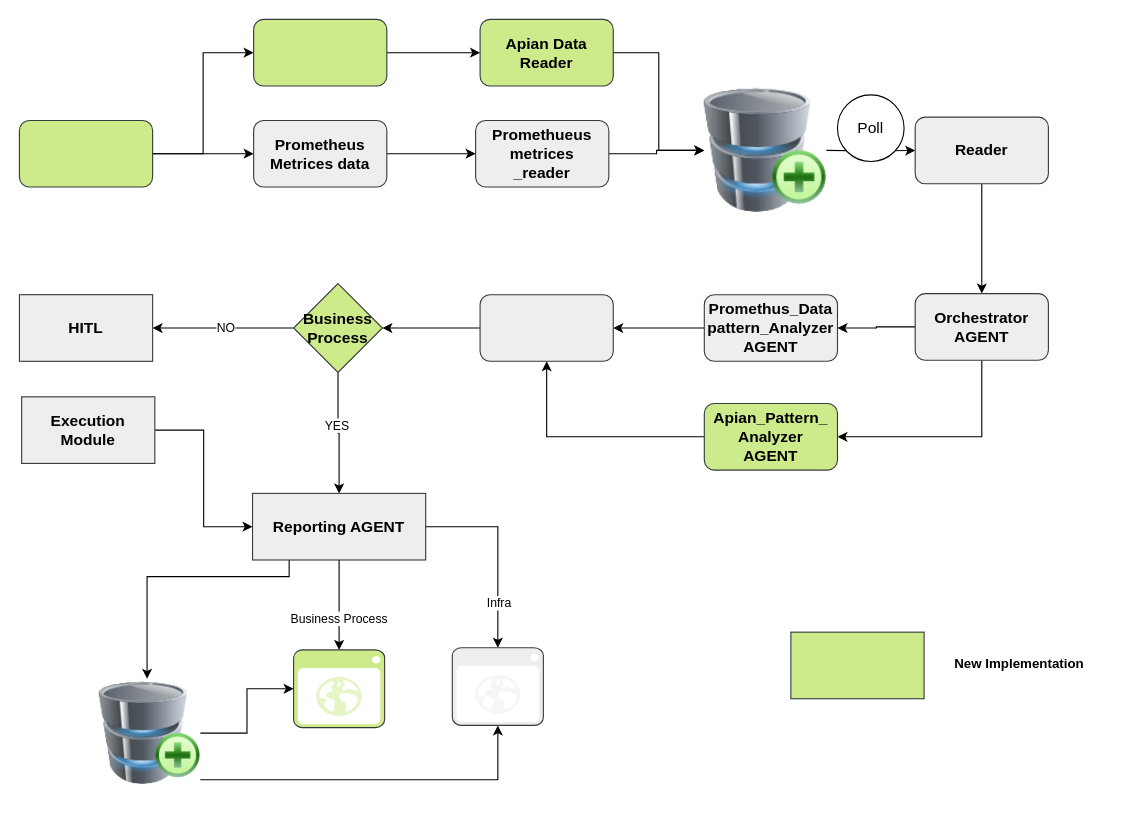
The diagram is 1124 pixels wide and 834 high, and some of its shapes have lost their labels. Each missing label, with the box of its shape:
Apian Log data: (253, 18, 387, 86)
Business Process Issue Summarization: (292, 649, 385, 728)
database: (99, 678, 200, 787)
Infra RCA Report: (451, 647, 543, 725)
RCA AGENT: (479, 294, 613, 361)
Simulator: (18, 119, 153, 187)
